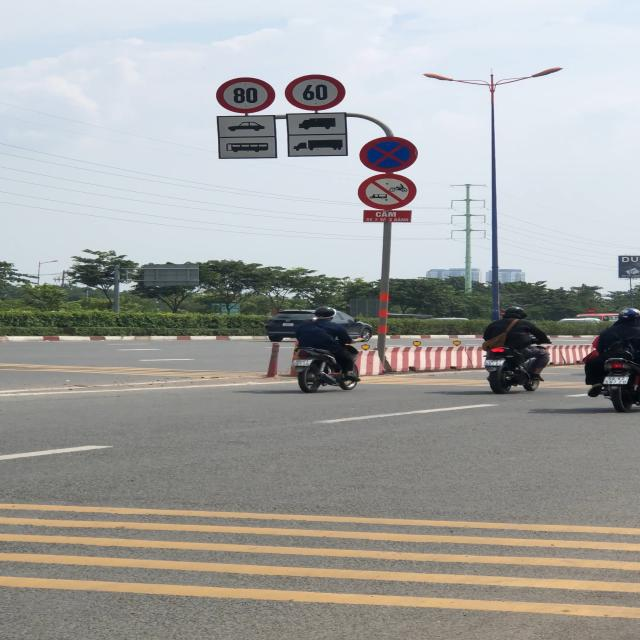Bien bao cam dung xe va do xe: (359, 134, 420, 176)
Bien bao toc do toi da cho phep: (213, 75, 276, 115), (282, 73, 345, 112)
